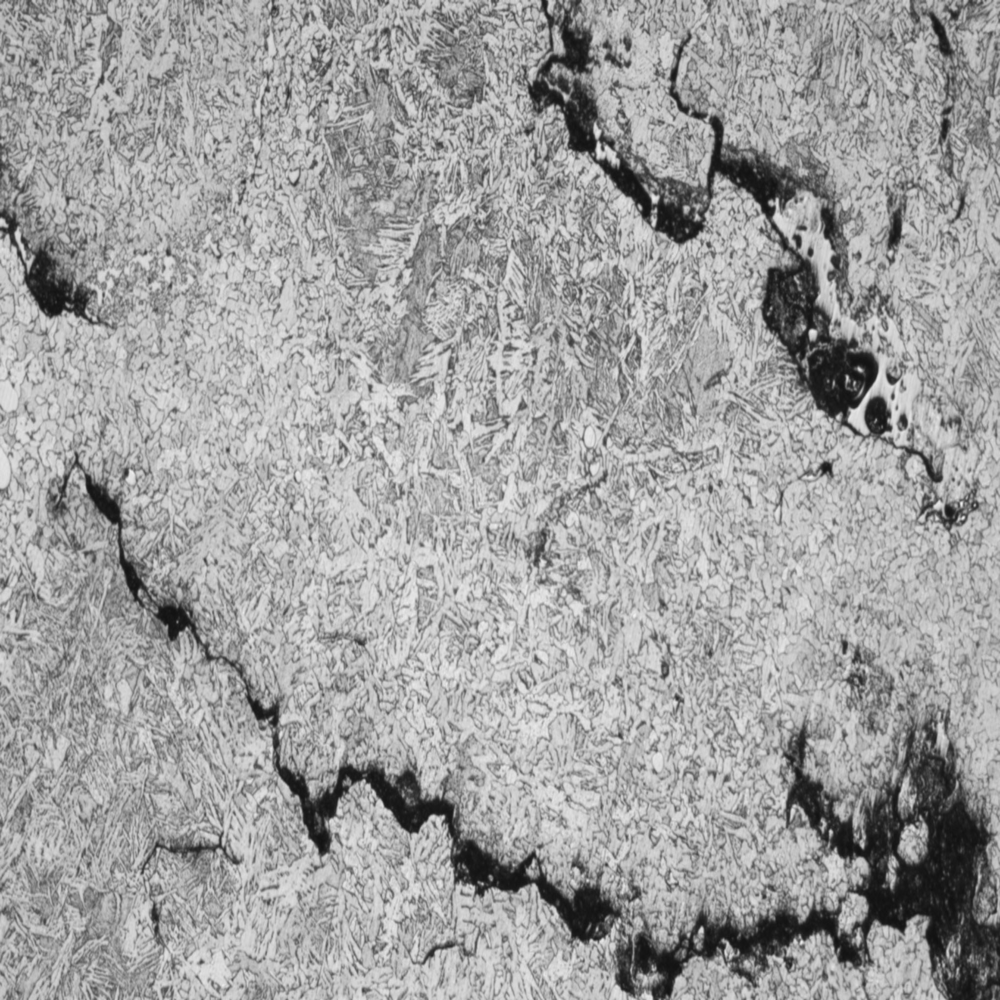crack: (34, 433, 1000, 992), (528, 1, 986, 551), (1, 205, 139, 348)
